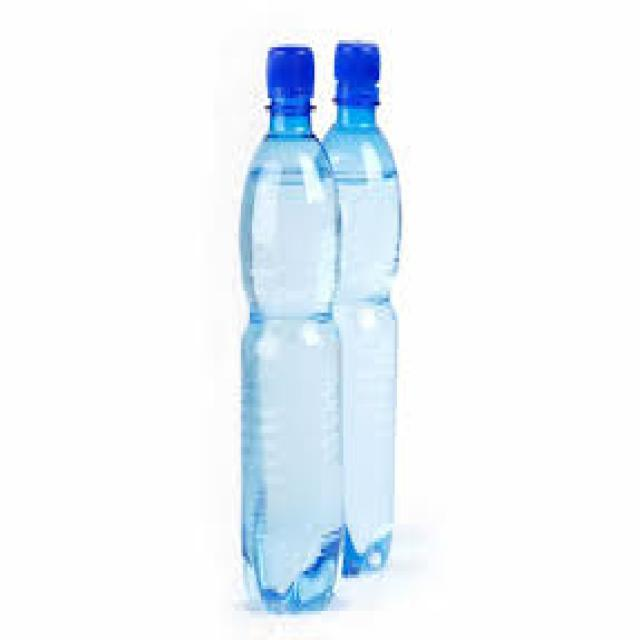bottle: (240, 49, 340, 610), (324, 43, 401, 574)
